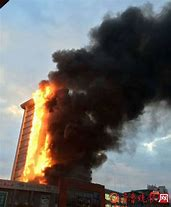smoke: (45, 1, 171, 162)
